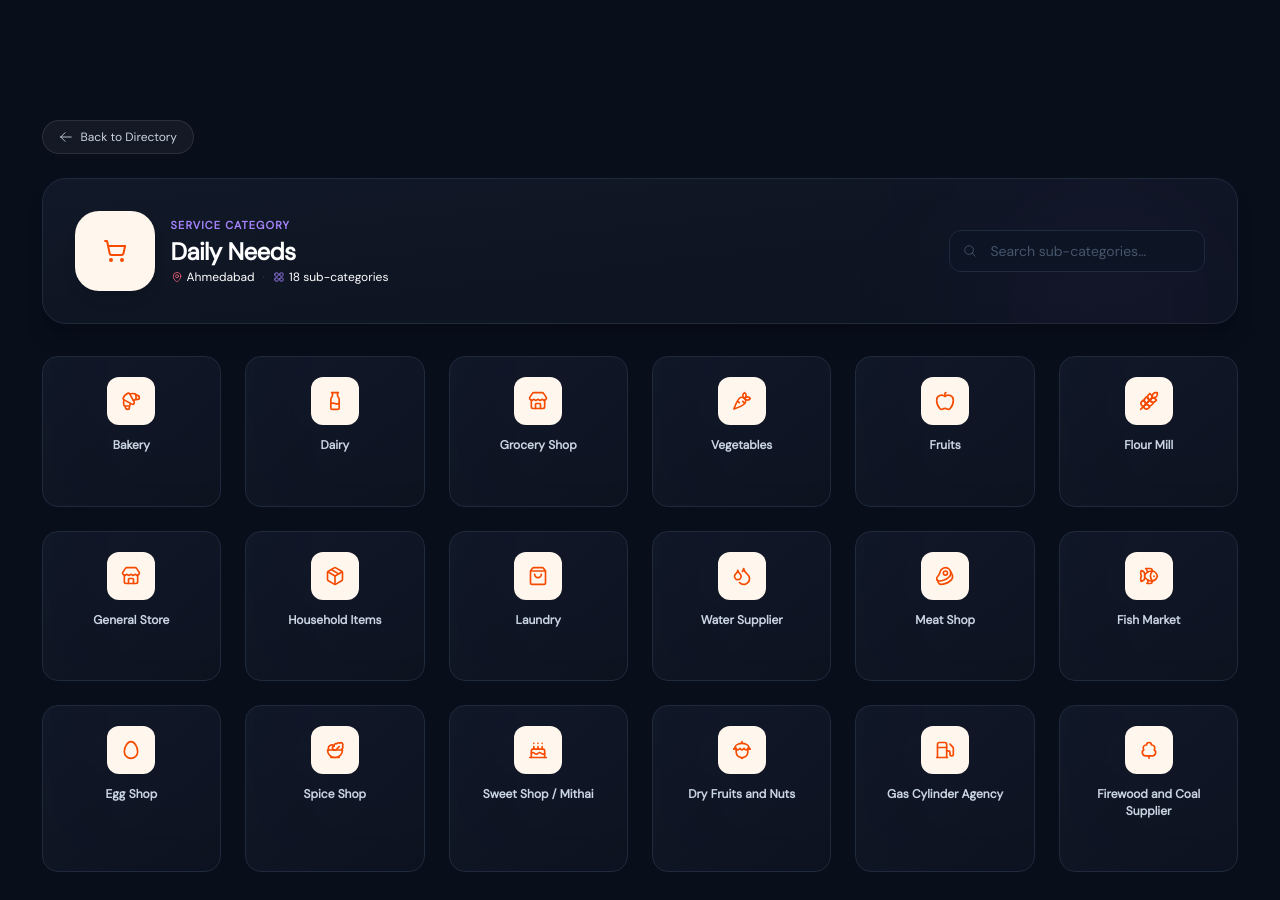
Test: SubCategories Page › filters subcategories by search and shows result count
Type "Bakery" into the field with placeholder "Search sub-categories…".
click(1077, 251); type("Bakery")  # box [949,230,1205,272]
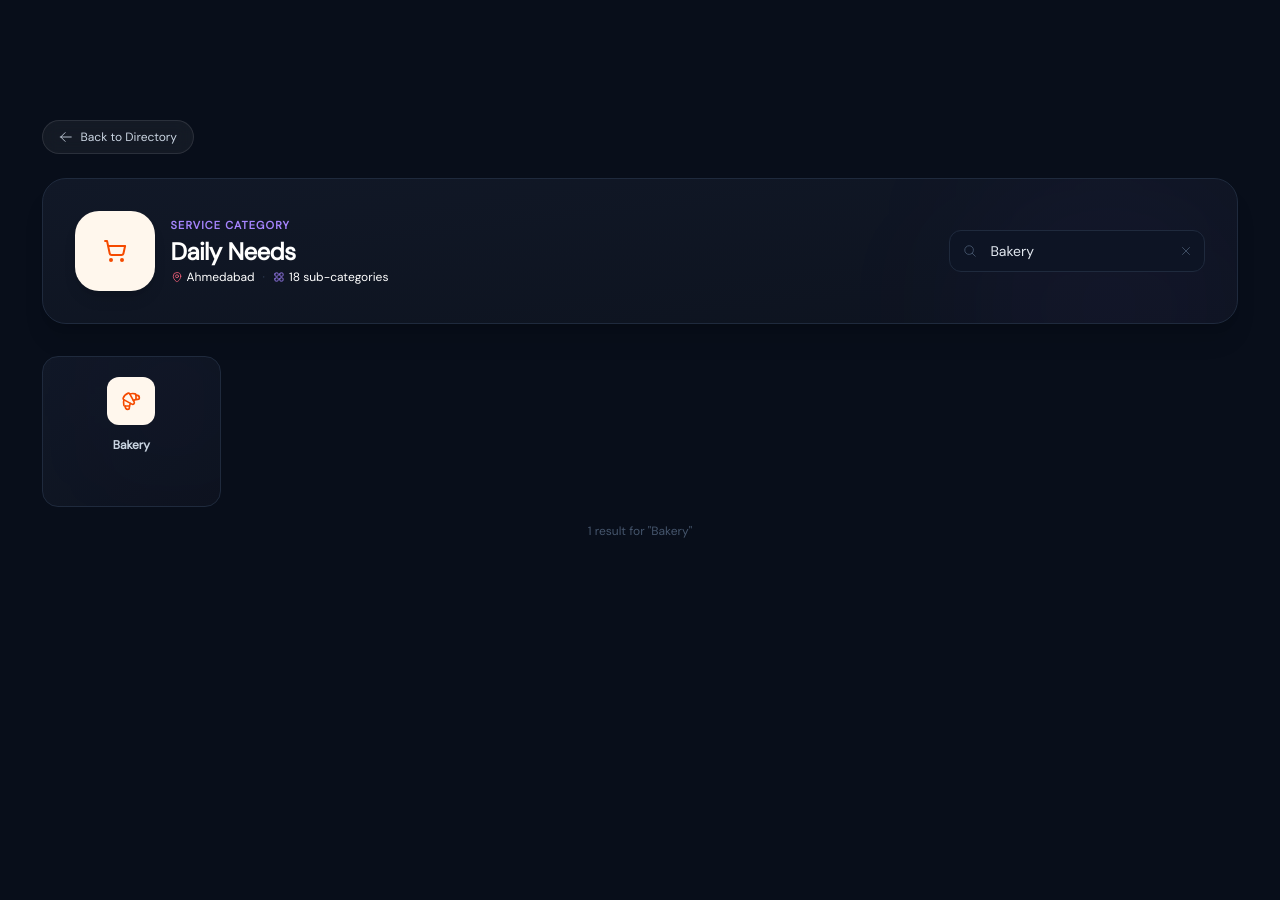
Expected: the heading "Bakery" is shown, [113,437,150,454]
Now the text "1 result for \"Bakery\"" is shown, box [588,522,692,538]
Now the heading "Dairy" is gone
